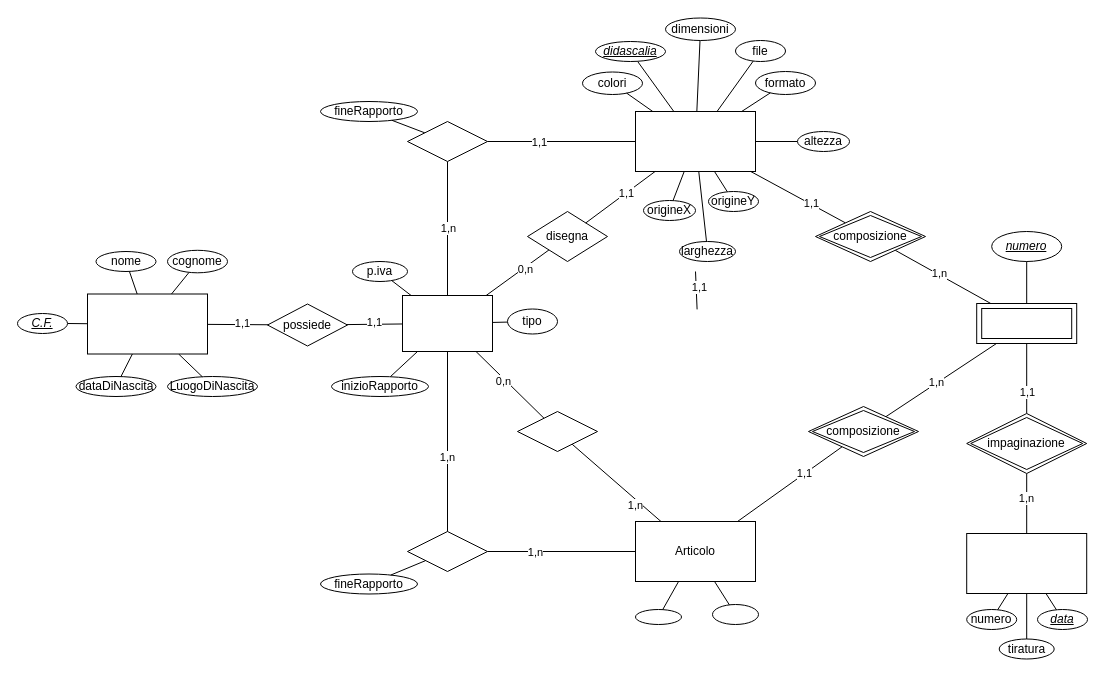
The diagram is 1105 pixels wide and 676 high, and some of its shapes have lost their labels. The shapes that lost their labels are listed below. From the top down, each one's centre as x and y in pixels, then its label:
At [447,141]: "ha disegnato".
At [695,141]: "Figura".
At [147,323]: "Anagrafica".
At [447,323]: "Autore".
At [1026,323]: "Pagina".
At [557,431]: "scrive".
At [447,551]: "ha scritto".
At [1026,563]: "Uscita".
At [658,616]: "titolo".
At [735,614]: "testo".
